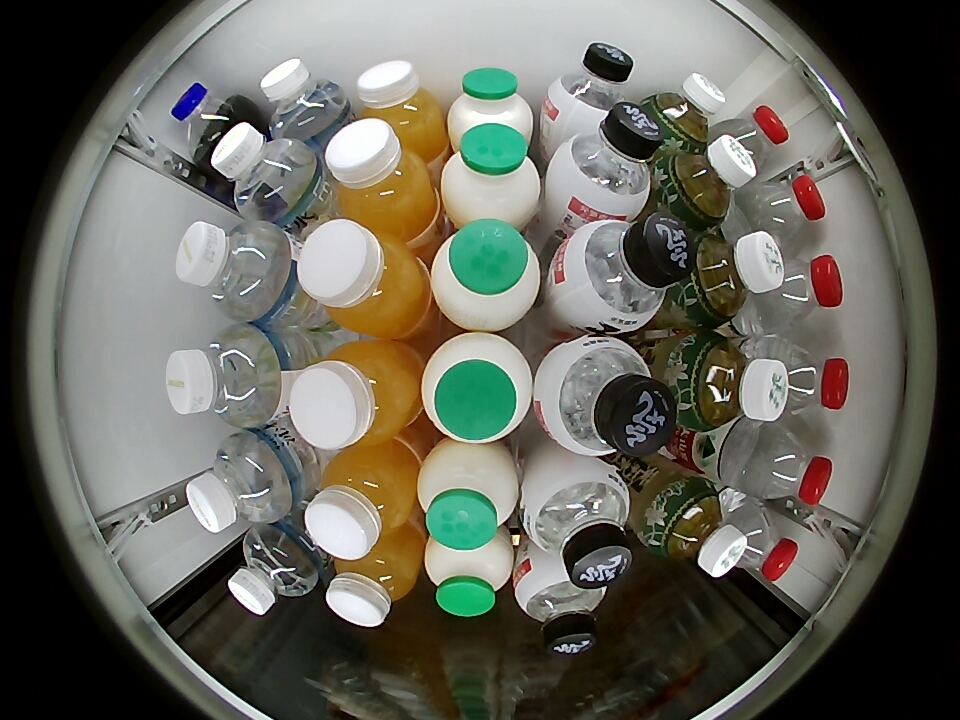baishikele-2: (171, 81, 249, 162)
liziyuan: (422, 332, 533, 443), (431, 221, 541, 332), (417, 440, 520, 549), (441, 121, 541, 228), (425, 531, 514, 618), (447, 67, 533, 146)
moliqingcha: (672, 332, 789, 433), (679, 228, 786, 327), (643, 478, 748, 578), (660, 136, 756, 229), (643, 72, 725, 152)
nongfushanquan: (741, 427, 833, 507), (760, 254, 843, 331), (770, 339, 850, 416), (727, 502, 798, 582), (745, 172, 826, 242), (720, 104, 789, 174)
qinningshui: (176, 219, 293, 322), (166, 325, 281, 428), (186, 432, 293, 534), (210, 122, 318, 221), (227, 525, 319, 616), (259, 58, 348, 141)
weic: (298, 218, 431, 338), (289, 340, 423, 449), (324, 118, 441, 240), (305, 441, 422, 559), (325, 528, 424, 627), (356, 60, 446, 156)
yuanqishui: (533, 335, 676, 458), (557, 214, 694, 333), (521, 457, 634, 588), (546, 103, 665, 222), (513, 558, 603, 655), (544, 42, 634, 132)
